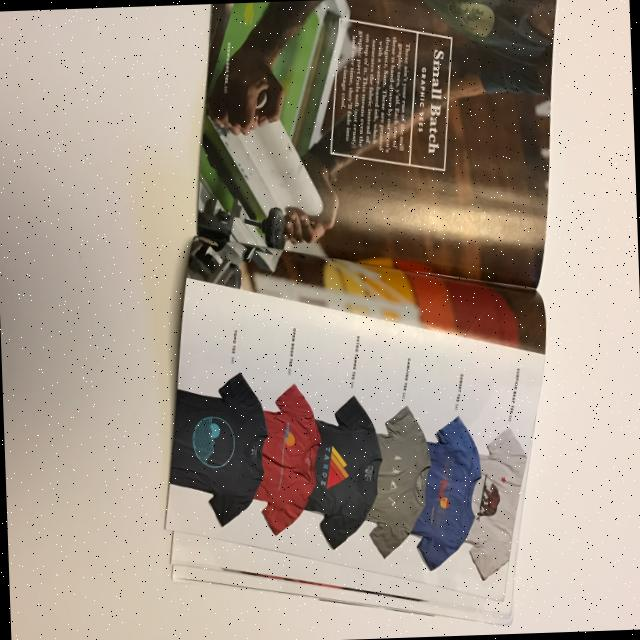paper: (147, 0, 583, 624)
